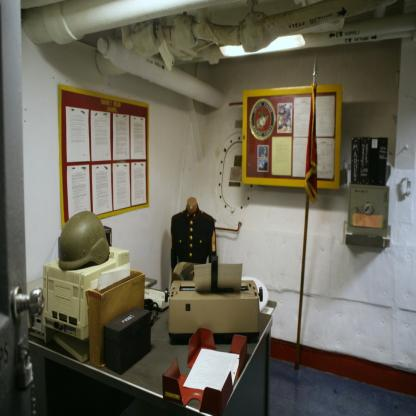Helmet: (58, 207, 114, 269)
